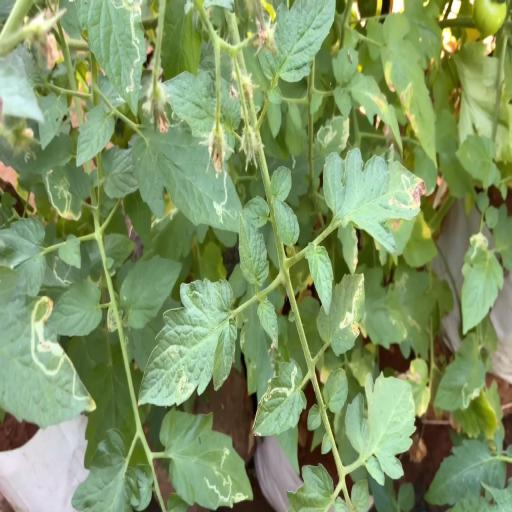Leaf_Miner: (0, 263, 97, 430), (132, 104, 242, 234), (138, 276, 237, 406), (323, 141, 425, 255), (161, 406, 254, 512), (73, 0, 146, 119), (359, 262, 438, 348), (460, 232, 504, 335), (317, 270, 365, 358), (252, 357, 306, 435), (434, 335, 485, 412), (42, 161, 90, 222), (316, 116, 350, 156), (44, 252, 80, 287), (337, 222, 359, 275)
